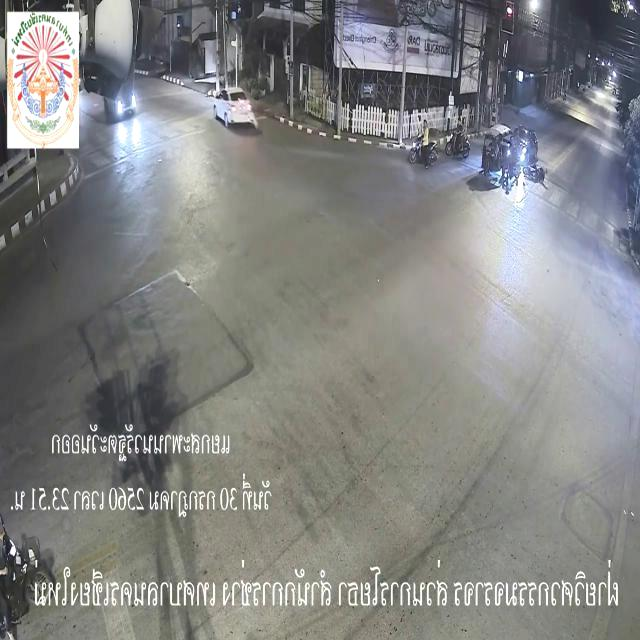accident: (478, 121, 548, 197)
non-accident: (406, 114, 472, 172)
